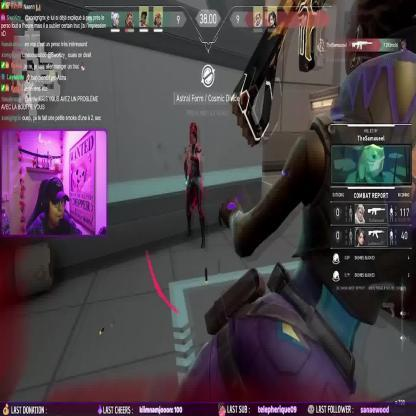enemy: (183, 121, 206, 250)
enemy_head: (189, 122, 197, 144)
